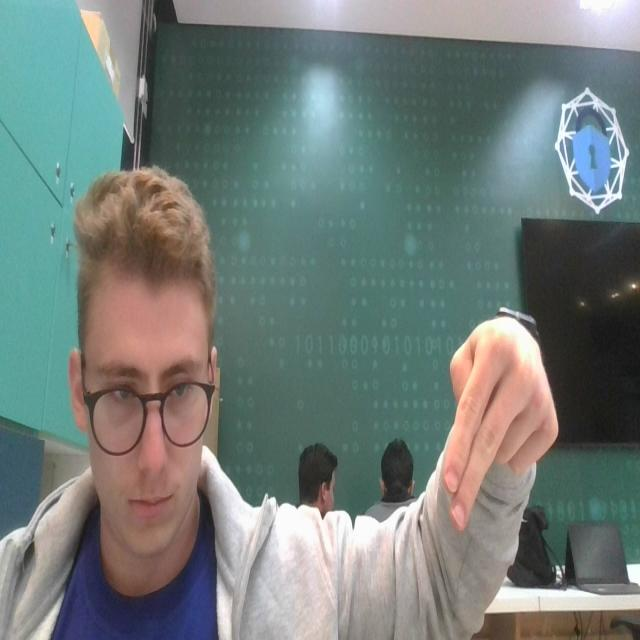N: (427, 297, 576, 567)
